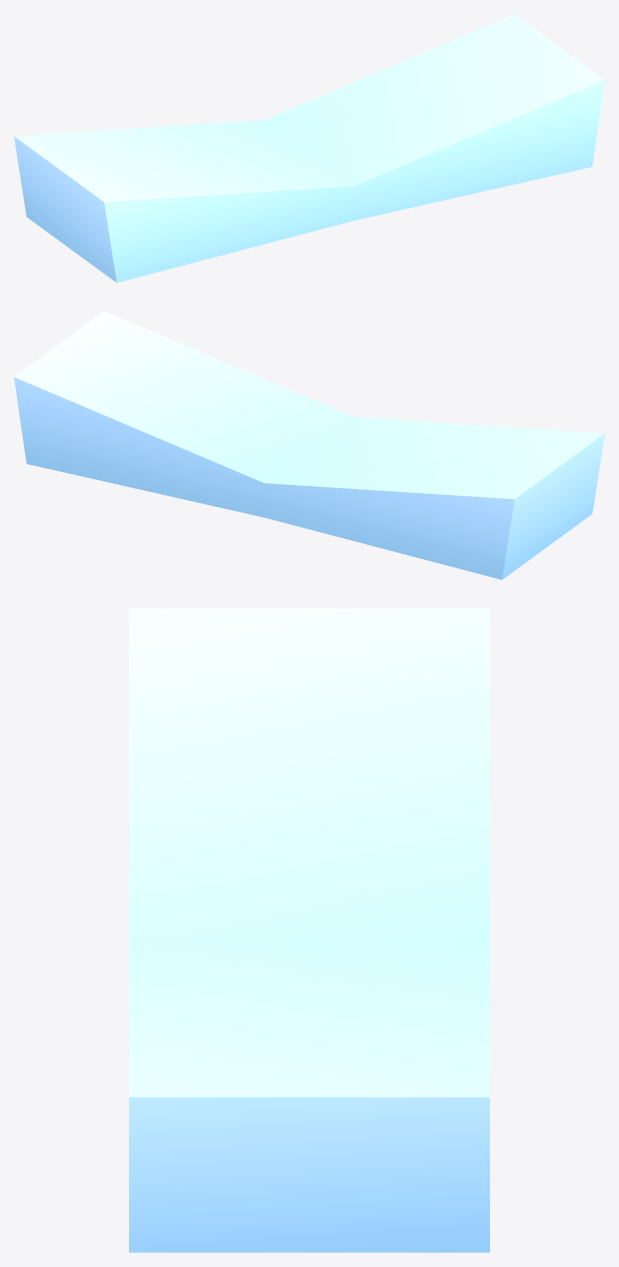
The model's file is steel_guard_059.glb.
3 views of the same model, one above another, from view 1: azimuth 30°, elevation 25°; view 2: azimuth 150°, elevation 25°; view 3: azimuth 270°, elevation 25° (orthographic). The views are drawn at different scales.
Visible parts, largest first — view 1: steel_guard_059; view 2: steel_guard_059; view 3: steel_guard_059.
Boxes of the visible parts, <box> form: steel_guard_059: <box>14,14,604,282</box>; steel_guard_059: <box>14,311,604,579</box>; steel_guard_059: <box>129,608,489,1252</box>.
Size of the model in its own units: 6.41 by 1.03 by 2.
1 material, 1 textured.
